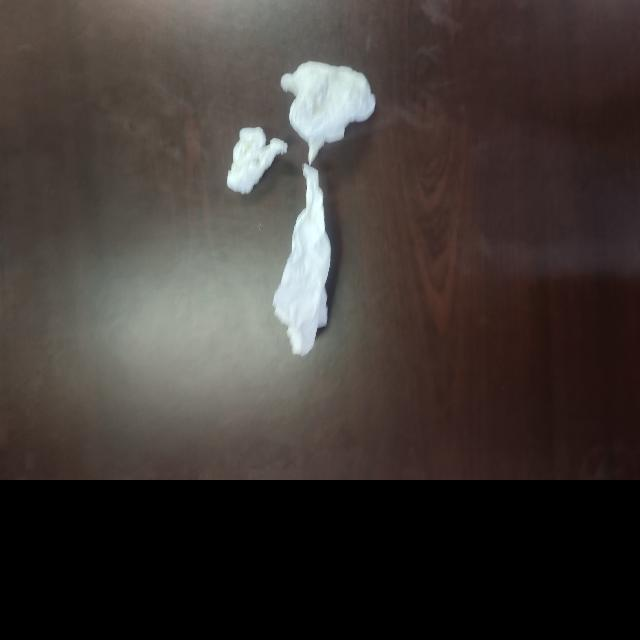kitchen paper: (271, 161, 334, 359), (279, 58, 380, 164), (222, 122, 292, 198)
